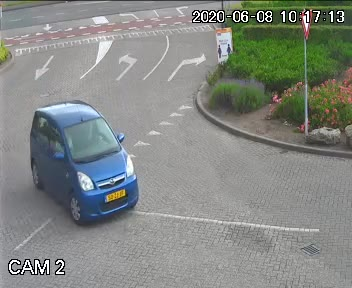car: (16, 89, 151, 230)
